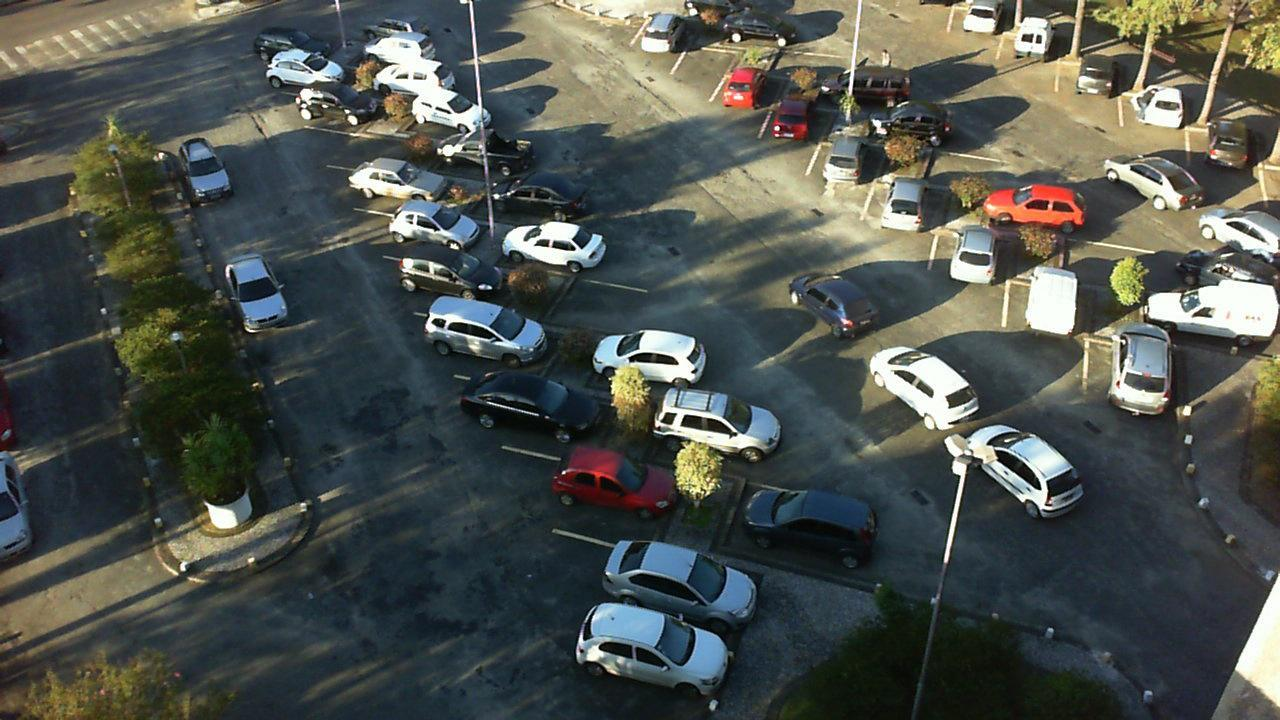empty: (543, 264, 673, 334), (1065, 231, 1169, 296), (316, 113, 413, 169), (927, 140, 1028, 191), (670, 45, 745, 106), (778, 43, 857, 84)
occupied: (608, 526, 775, 654), (542, 439, 695, 539), (634, 397, 776, 485), (730, 478, 865, 570), (491, 366, 626, 456), (446, 304, 573, 386), (603, 324, 724, 402), (1139, 292, 1260, 362), (1083, 341, 1181, 421), (508, 216, 630, 277), (408, 252, 524, 316), (384, 198, 497, 263), (473, 167, 589, 225), (935, 223, 1013, 307), (1005, 271, 1085, 351), (992, 185, 1105, 240), (404, 88, 515, 143), (343, 156, 450, 211), (863, 183, 946, 253), (801, 137, 884, 205), (629, 10, 703, 77), (760, 104, 832, 172), (445, 132, 544, 181), (819, 68, 916, 116), (709, 71, 784, 130), (301, 84, 393, 130), (1123, 84, 1182, 153), (867, 105, 955, 150), (278, 51, 364, 97), (349, 35, 438, 76), (732, 12, 821, 53), (383, 65, 472, 105), (1000, 20, 1064, 75), (1057, 56, 1118, 113)
